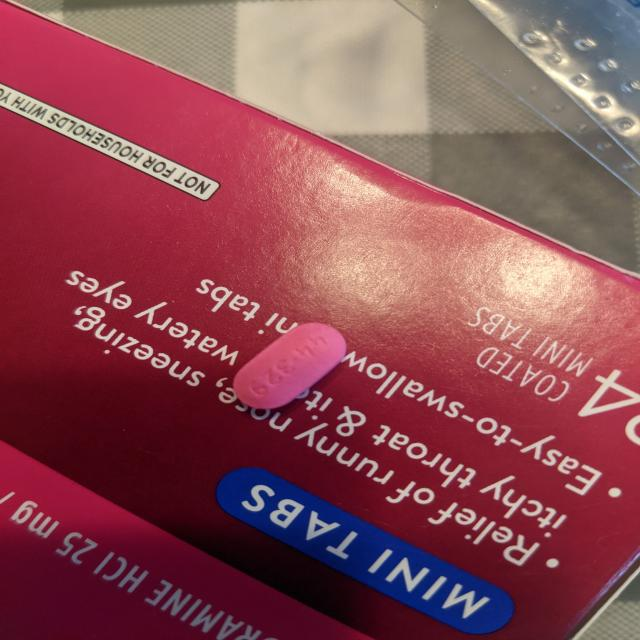non-organic waste: (231, 321, 348, 411)
